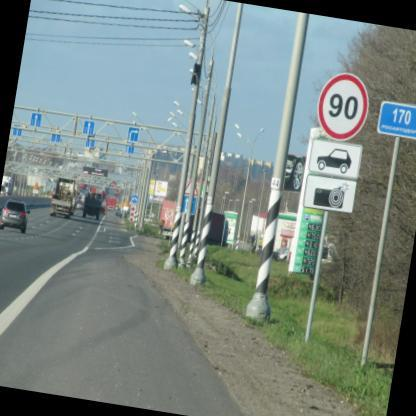obstructed_road_sign: (179, 196, 198, 215)
road_sign: (318, 74, 369, 140), (309, 140, 362, 178), (304, 175, 356, 213), (31, 113, 42, 127), (128, 128, 139, 142), (83, 121, 94, 134), (131, 195, 139, 206)
